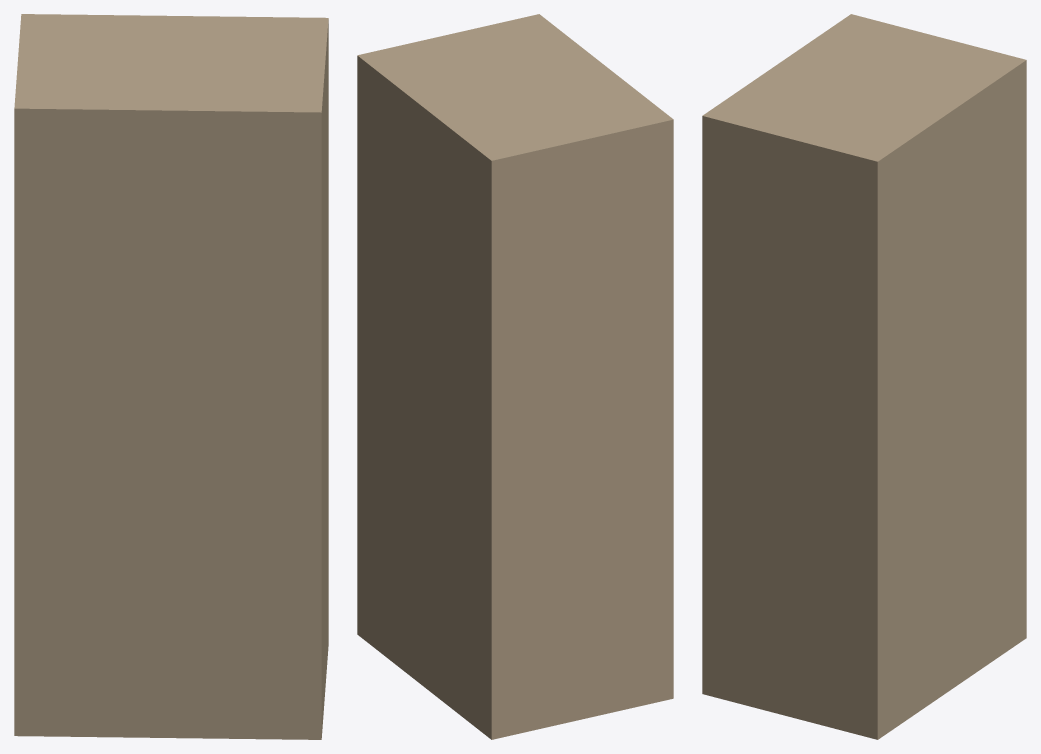
Rendered from bld_393483719.dae.
3 views of the same model, side by side, from view 1: azimuth 30°, elevation 25°; view 2: azimuth 150°, elevation 25°; view 3: azimuth 270°, elevation 25° (orthographic). The views are drawn at different scales.
Parts seen in each view (by area): view 1: bld_393483719; view 2: bld_393483719; view 3: bld_393483719.
Boxes of the visible parts, left/top/right/bottom form: bld_393483719: left=14, top=14, right=328, bottom=739; bld_393483719: left=357, top=14, right=673, bottom=739; bld_393483719: left=702, top=14, right=1026, bottom=739.
Bounding box in the file's own units: 4.39 × 4.07 × 8.
